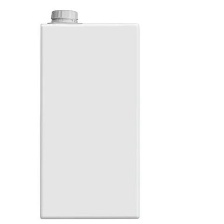carton: (34, 5, 152, 221)
